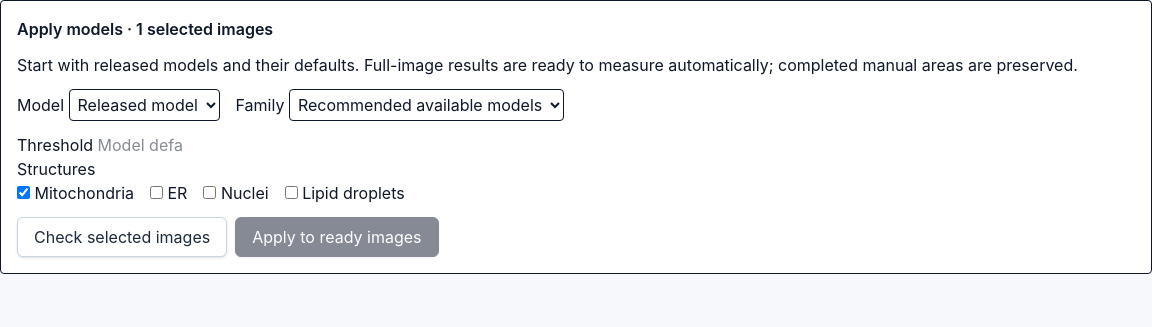
Scenario: rejects out-of-range thresholds before previewing or queueing images
Type "1.5" into the number field labelled "Threshold". click: (147, 145)
box: left=98, top=133, right=196, bottom=157
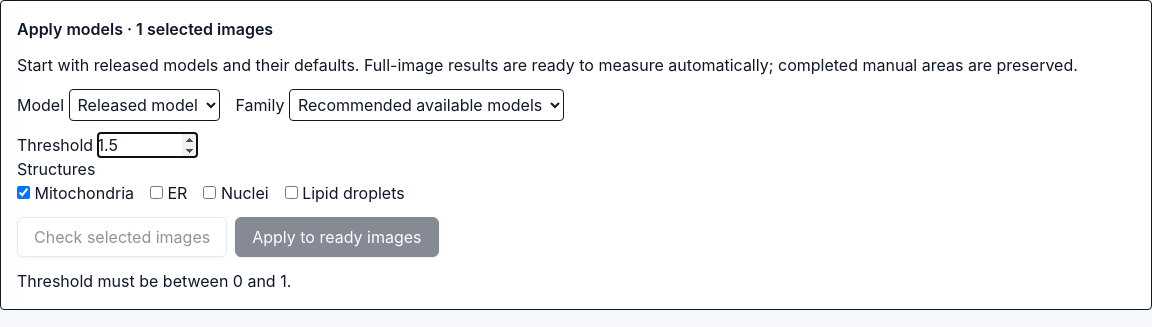
Expected: the button "Check selected images" is disabled, left=17, top=217, right=227, bottom=257
Expected: the message reads "Threshold must be between 0 and 1.", left=17, top=271, right=291, bottom=291
